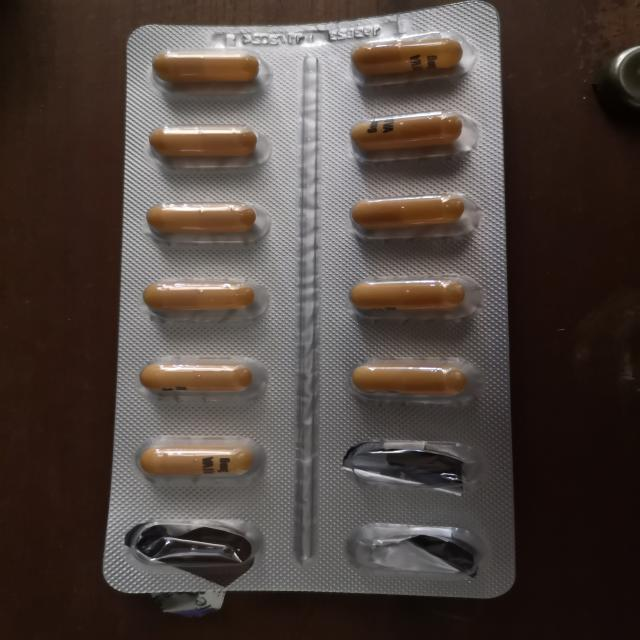Empty: (336, 432, 486, 494), (342, 520, 490, 579), (118, 516, 269, 573)
Pill: (131, 431, 269, 484), (133, 350, 270, 403), (346, 108, 478, 163), (344, 272, 486, 322), (136, 273, 272, 325), (346, 190, 485, 240), (344, 352, 480, 402), (145, 120, 275, 172), (346, 35, 475, 84), (143, 197, 271, 246), (147, 46, 272, 92)
